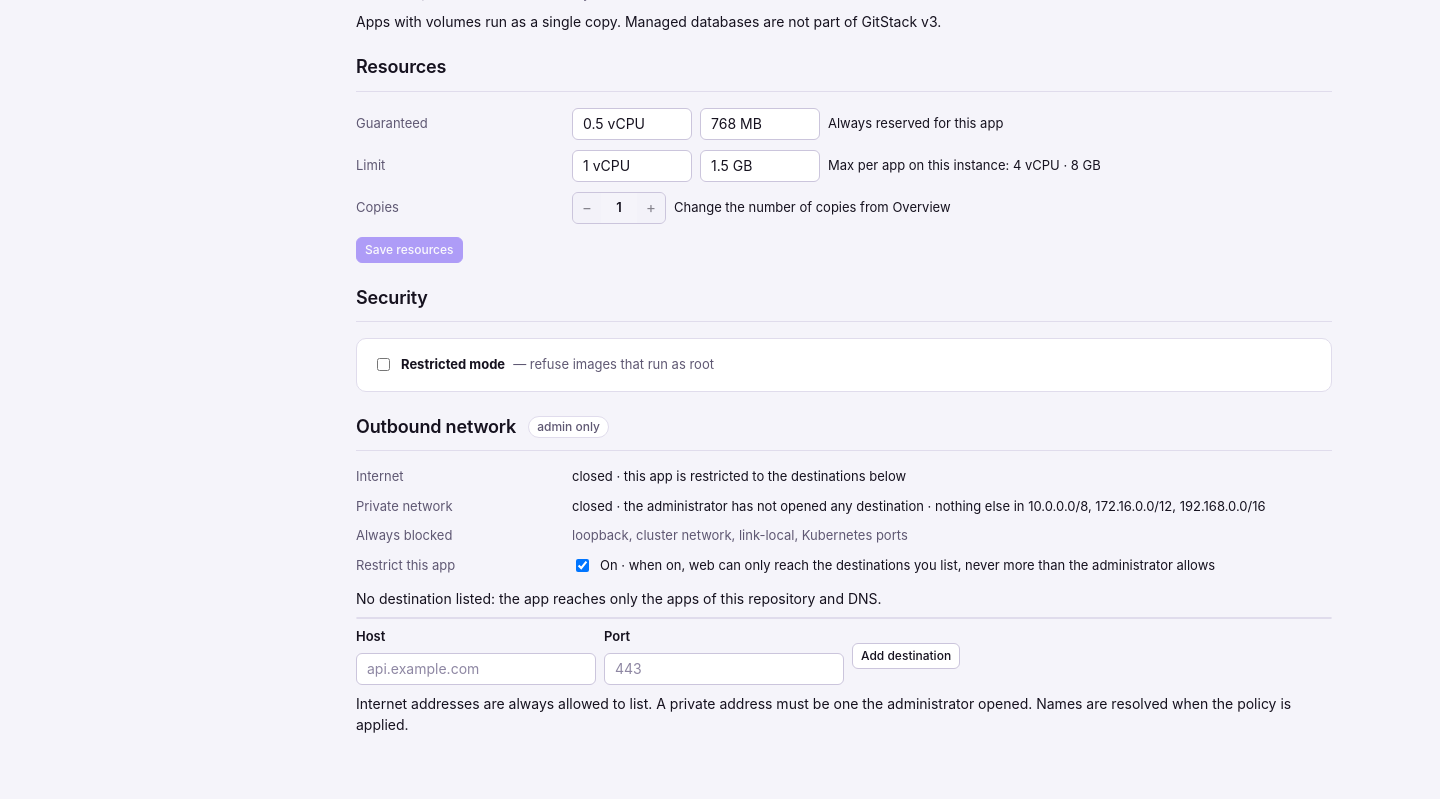
it: AppVolumesPage · Outbound network (H16) › mostra il rifiuto dell'API per una destinazione fuori dalla lista dell'amministratore
(page scrolled)
Type "10.20.0.99" into the field labelled "Host". click: coordinates (476, 668)
box: [356,652,596,684]
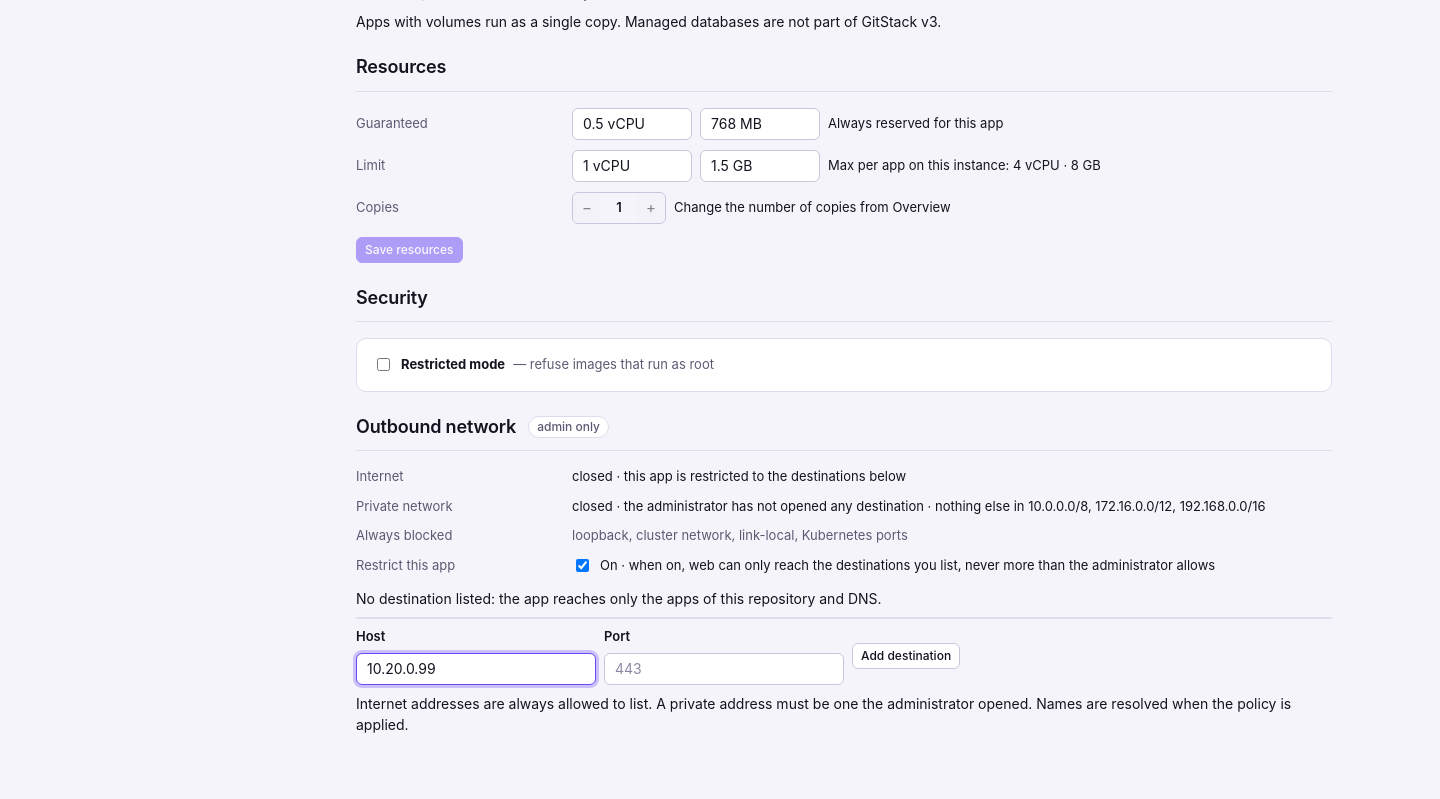
Type "5432" into the field labelled "Port". click: coordinates (724, 668)
box: [604,652,844,684]
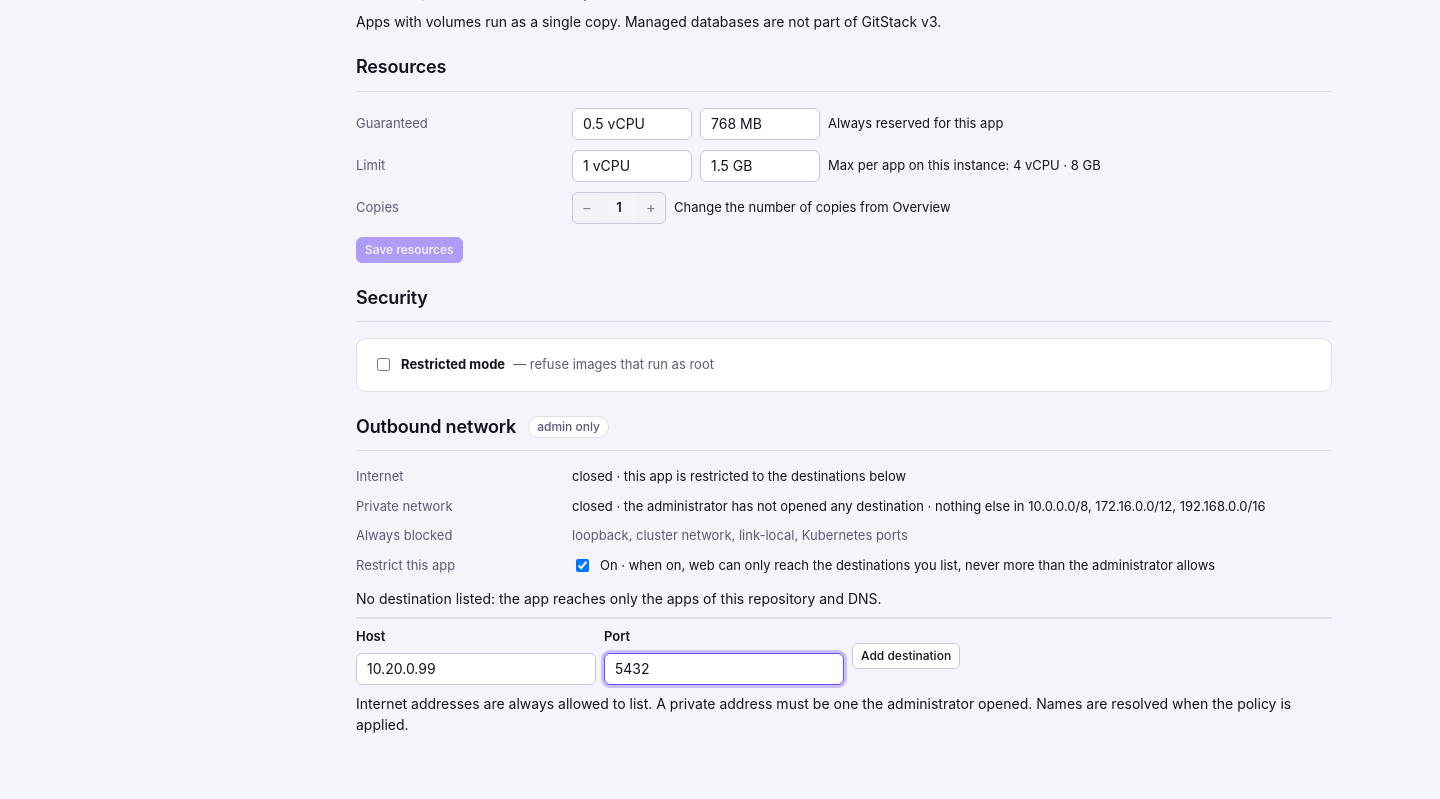
Click the button "Add destination". click: coordinates (906, 656)
box: [852,643,960,669]
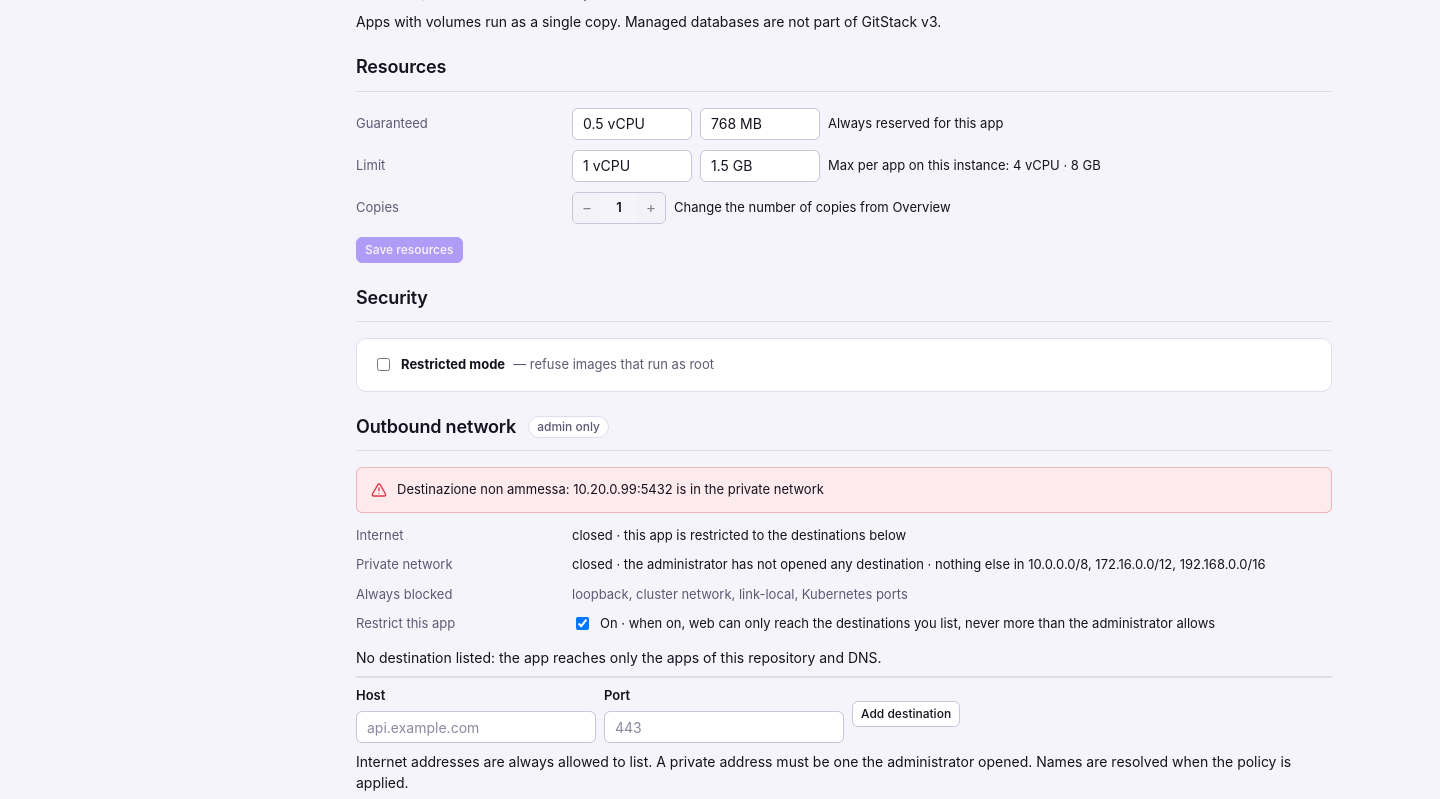
Expected: the text "Destinazione non ammessa" is shown, [397,481,824,497]
